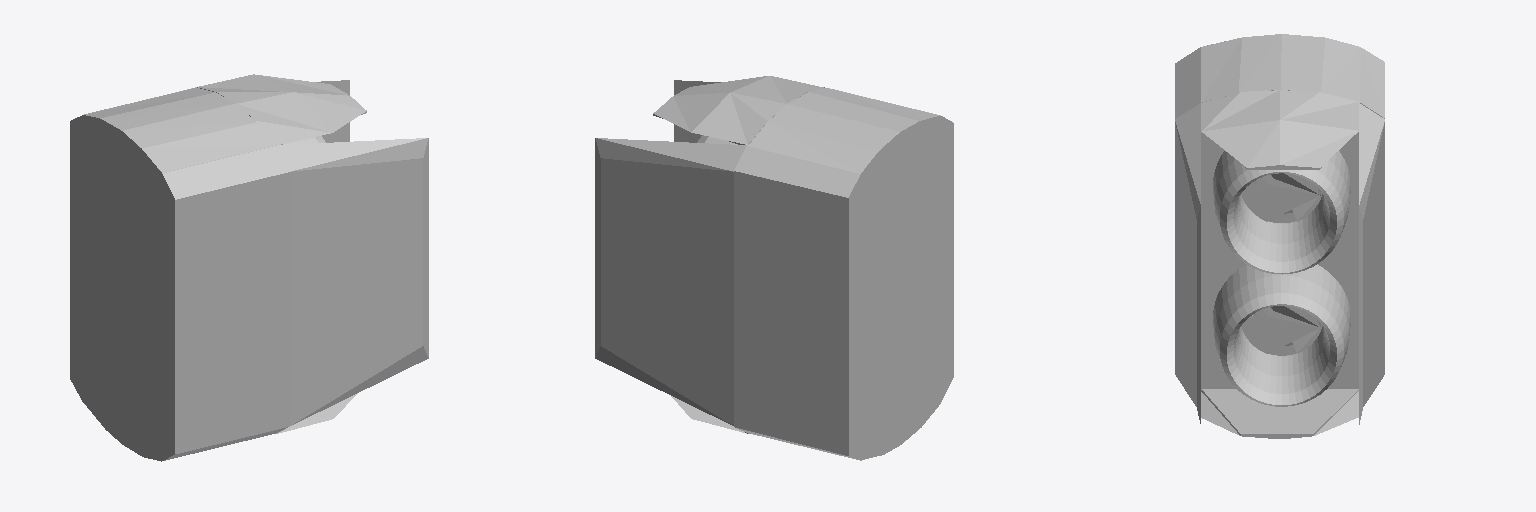
File: largeEngine.obj
3 renders of one model, left to right at view 1: azimuth 30°, elevation 25°; view 2: azimuth 150°, elevation 25°; view 3: azimuth 270°, elevation 25°, orthographic.
Parts seen in each view (by area): view 1: Cube.001_Cube, Cube.004_Cube.006, Cube_Cube.001, Cube.002_Cube.004, Cube.003_Cube.005; view 2: Cube.001_Cube, Cube.003_Cube.005, Cube_Cube.001, Cube.004_Cube.006, Cube.002_Cube.004; view 3: Cube.001_Cube, Torus.001_Torus.002, Cube_Cube.001, Torus, Cube.003_Cube.005, Cube.004_Cube.006, Cube.002_Cube.004, Cylinder.001_Cylinder.002, Cylinder.000_Cylinder.003.
Boxes of the visible parts, x1=… form: Cube.001_Cube: x1=70, y1=87, x2=289, y2=461; Cube.004_Cube.006: x1=277, y1=138, x2=428, y2=425; Cube_Cube.001: x1=197, y1=74, x2=366, y2=144; Cube.002_Cube.004: x1=276, y1=393, x2=357, y2=433; Cube.003_Cube.005: x1=317, y1=80, x2=349, y2=142; Cube.001_Cube: x1=734, y1=88, x2=953, y2=460; Cube.003_Cube.005: x1=595, y1=138, x2=746, y2=425; Cube_Cube.001: x1=653, y1=76, x2=823, y2=144; Cube.004_Cube.006: x1=674, y1=80, x2=824, y2=142; Cube.002_Cube.004: x1=671, y1=396, x2=748, y2=433; Cube.001_Cube: x1=1175, y1=34, x2=1384, y2=390; Torus.001_Torus.002: x1=1213, y1=264, x2=1350, y2=406; Cube_Cube.001: x1=1201, y1=90, x2=1358, y2=169; Torus: x1=1213, y1=151, x2=1350, y2=274; Cube.003_Cube.005: x1=1359, y1=103, x2=1384, y2=424; Cube.004_Cube.006: x1=1175, y1=103, x2=1200, y2=423; Cube.002_Cube.004: x1=1201, y1=389, x2=1358, y2=438; Cylinder.001_Cylinder.002: x1=1243, y1=173, x2=1320, y2=221; Cylinder.000_Cylinder.003: x1=1243, y1=306, x2=1320, y2=353.
Size of the model in its own units: 2.33 by 2.63 by 1.6.